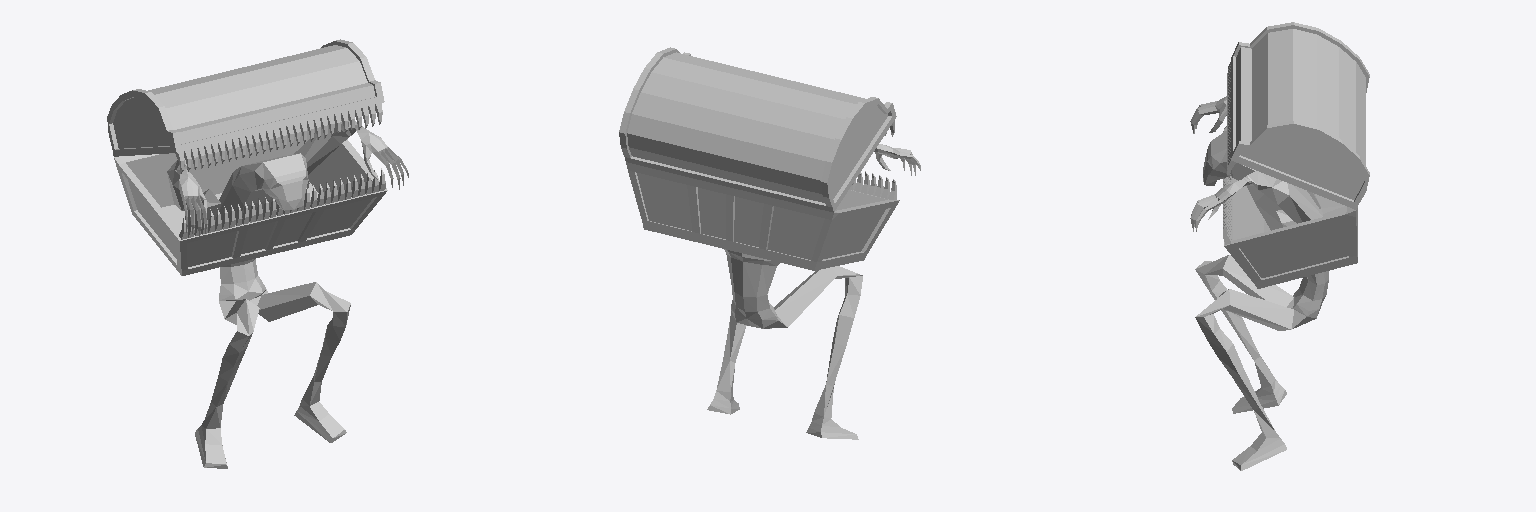
Rendered from DS_Mimic_Opening.obj.
3 renders of one model, left to right at view 1: azimuth 30°, elevation 25°; view 2: azimuth 150°, elevation 25°; view 3: azimuth 270°, elevation 25°, orthographic.
Parts seen in each view (by area): view 1: default; view 2: default; view 3: default.
Boxes of the visible parts, x1=… form: default: x1=107, y1=39, x2=408, y2=468; default: x1=619, y1=47, x2=920, y2=439; default: x1=1190, y1=22, x2=1369, y2=470.
Size of the model in its own units: 3.9 by 6.12 by 2.72.